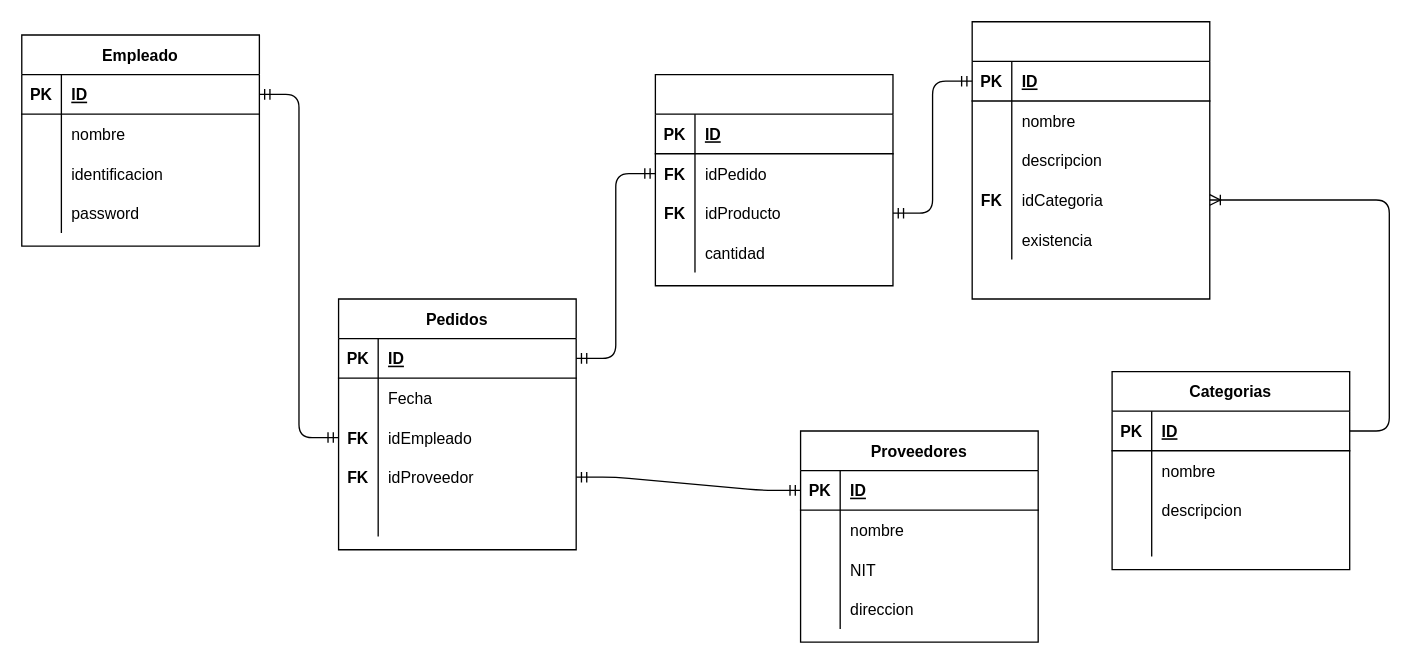
Image size: 1411x664. Some labels were removed from this diagram. The shapes that lost their labels are listed below. From the top down, each one's box as (x1, y1, x2, y2) in pixels, then its label:
(654, 73, 893, 286): Detalle Pedido
(971, 20, 1210, 299): Producto
